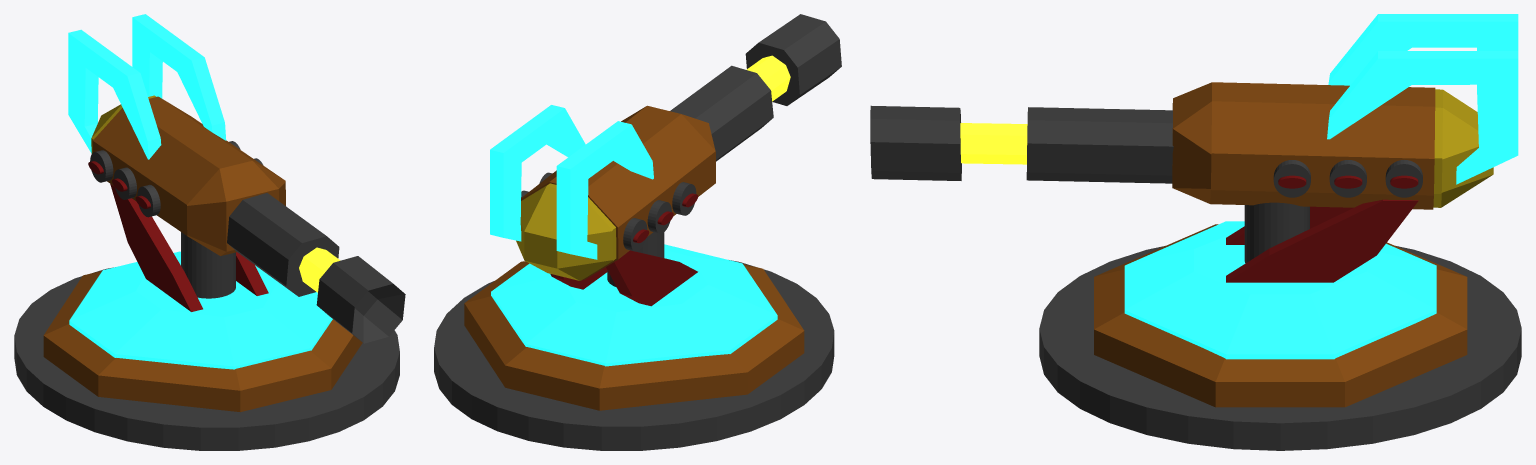
The model's file is Turm 10.fbx.
3 views of the same model, side by side, from view 1: azimuth 30°, elevation 25°; view 2: azimuth 150°, elevation 25°; view 3: azimuth 270°, elevation 25° (orthographic). The views are drawn at different scales.
Parts seen in each view (by area): view 1: Cube.009, Cylinder.001; view 2: Cube.009, Cylinder.001; view 3: Cube.009, Cylinder.001.
Boxes of the visible parts, <box> form: Cube.009: <box>43,14,405,412</box>; Cylinder.001: <box>14,267,399,450</box>; Cube.009: <box>464,14,841,410</box>; Cylinder.001: <box>434,260,834,450</box>; Cube.009: <box>870,14,1518,407</box>; Cylinder.001: <box>1039,245,1521,450</box>.
Size of the model in its own units: 240 by 189 by 349.
